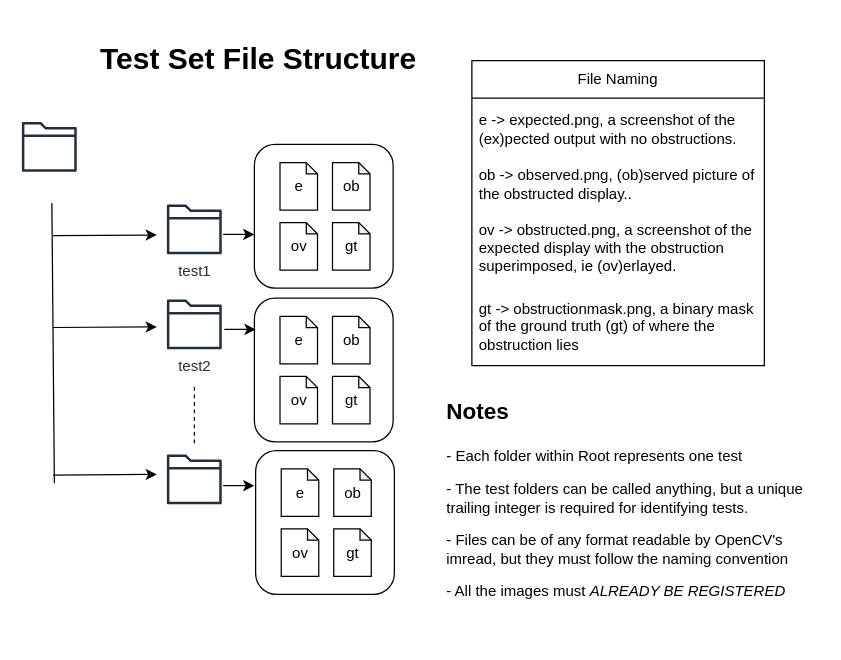
Some shapes in this 841 by 660 pixel diagram are drawn without their labels. Each missing label, with the centre of its shape:
"Root" belongs at point 48,146.
"testID" belongs at point 193,479.
